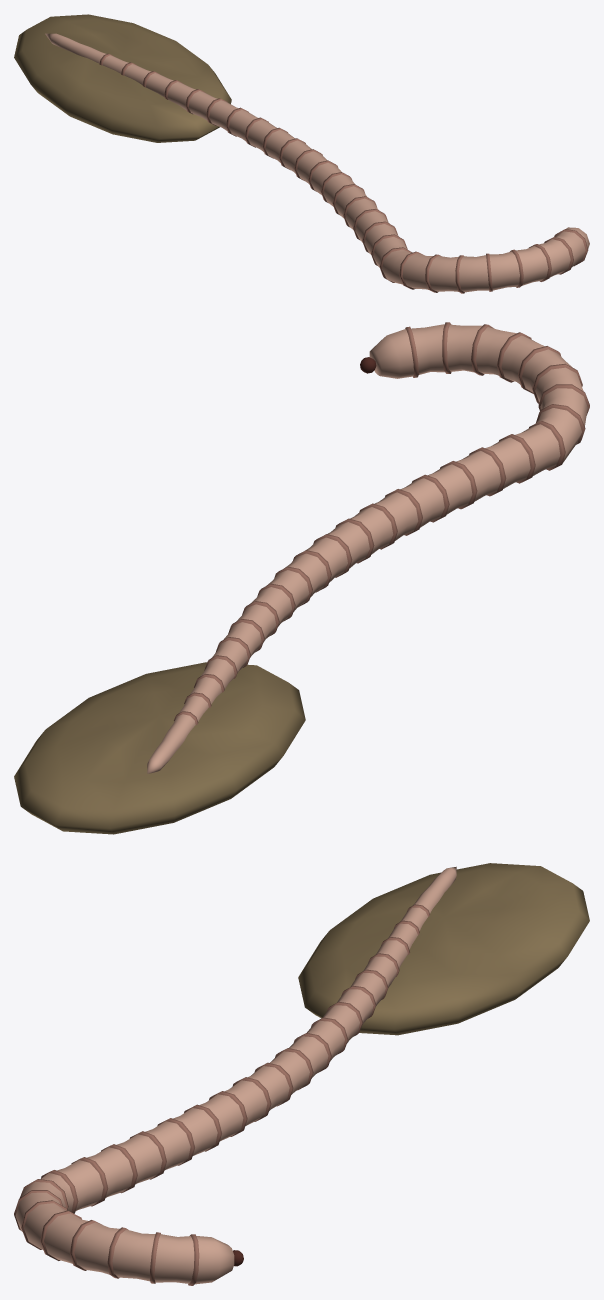
The model's file is Uncus.fbx.
The picture shows the model from 3 angles, top to bottom: view 1: azimuth 30°, elevation 25°; view 2: azimuth 150°, elevation 25°; view 3: azimuth 330°, elevation 25°; orthographic projection. The views are drawn at different scales.
Parts seen in each view (by area): view 1: Uncus; view 2: Uncus; view 3: Uncus.
Boxes of the visible parts, box(x1,y1,x2,y2) form: Uncus: box(14, 14, 589, 293); Uncus: box(14, 322, 589, 834); Uncus: box(14, 863, 589, 1285).
Size of the model in its own units: 0.5047 by 0.16 by 1.6.
